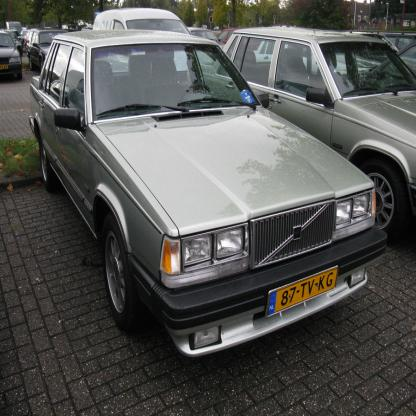Car: (27, 26, 389, 361), (186, 25, 416, 248), (344, 39, 416, 90), (0, 31, 23, 80), (184, 26, 226, 52), (218, 28, 261, 50), (2, 27, 22, 57), (9, 26, 24, 47)
